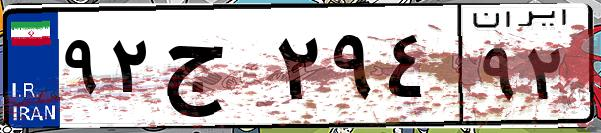2: (270, 28, 330, 110), (525, 38, 570, 115), (110, 28, 158, 98)
4: (385, 28, 445, 110)
9: (330, 28, 385, 110), (57, 26, 110, 100), (475, 38, 525, 113)
ج: (158, 20, 270, 120)
